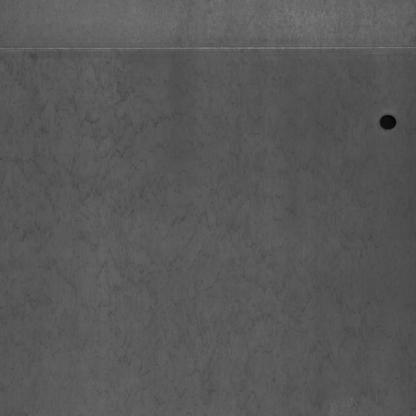punching_hole: (376, 104, 399, 135)
silk_spot: (8, 81, 362, 401)
